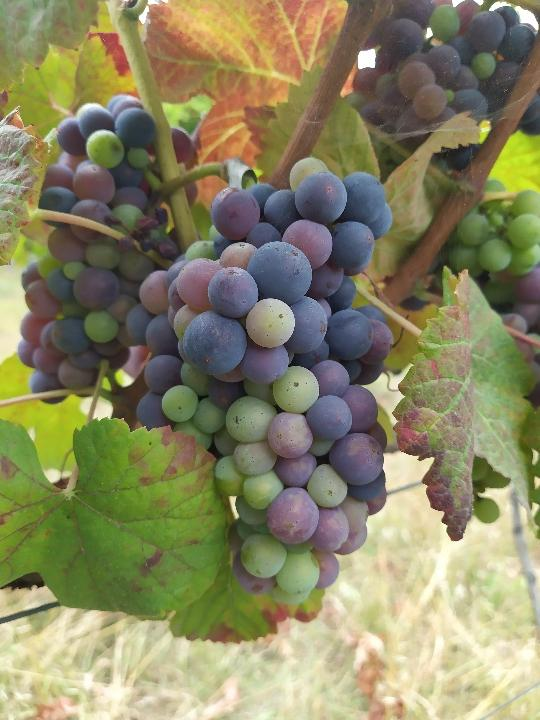grape: (123, 152, 396, 608)
